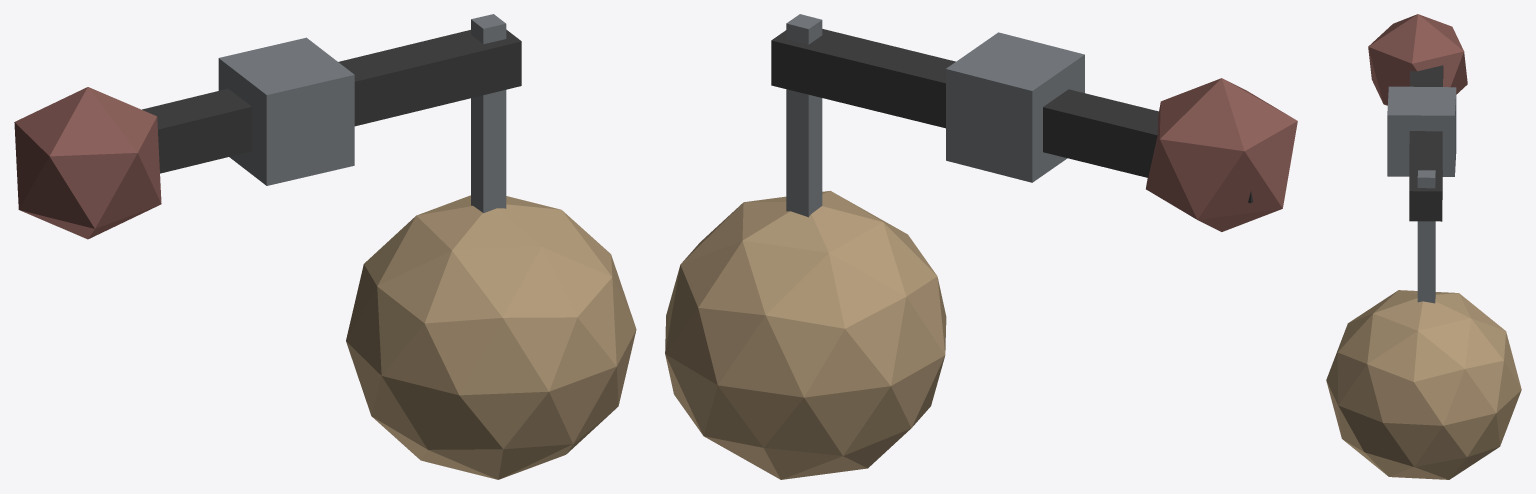
Rendered from DarkGreyMetalDecorationSmallOrreryPiece2.fbx.
3 views of the same model, side by side, from view 1: azimuth 30°, elevation 25°; view 2: azimuth 150°, elevation 25°; view 3: azimuth 270°, elevation 25° (orthographic). The views are drawn at different scales.
Visible parts, largest first — view 1: DarkGreyMetalDecorationSmallOrreryPiece2; view 2: DarkGreyMetalDecorationSmallOrreryPiece2; view 3: DarkGreyMetalDecorationSmallOrreryPiece2.
Part boxes in pixels (x1,y1,x2,y2): DarkGreyMetalDecorationSmallOrreryPiece2: (14, 14, 636, 479); DarkGreyMetalDecorationSmallOrreryPiece2: (665, 14, 1297, 479); DarkGreyMetalDecorationSmallOrreryPiece2: (1326, 14, 1521, 479).
Bounding box in the file's own units: 280 × 217 × 118.
Materials: 4 (4 with a texture image).
